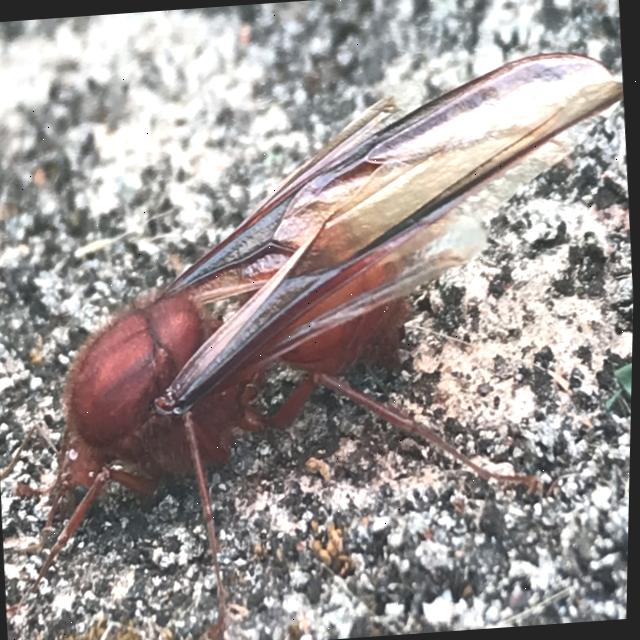Alive-Male-Alate: (0, 46, 639, 640)
